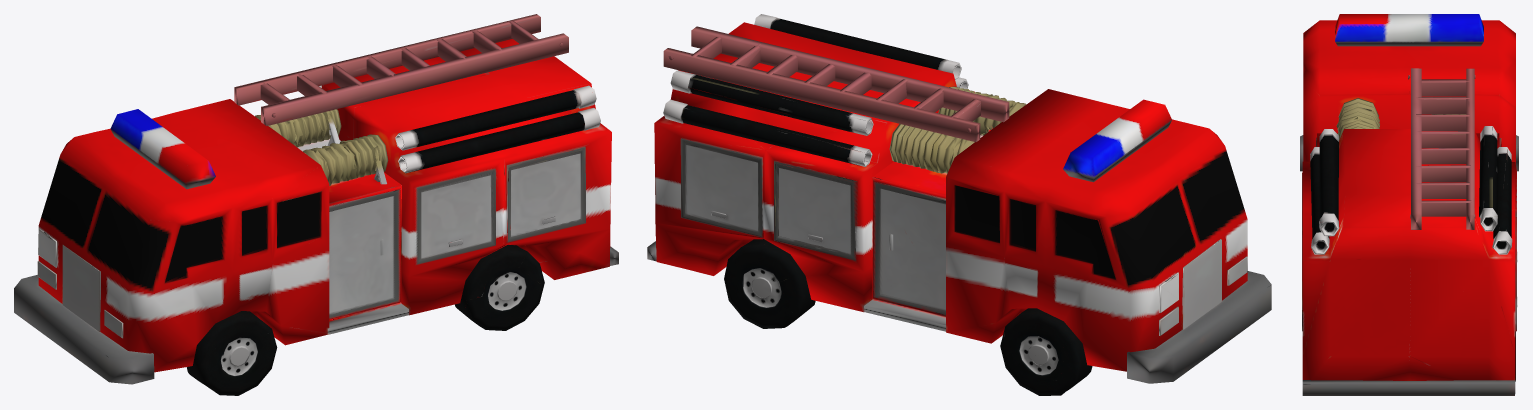
Rendered from bombeiros.glb.
3 renders of one model, left to right at view 1: azimuth 30°, elevation 25°; view 2: azimuth 150°, elevation 25°; view 3: azimuth 270°, elevation 25°, orthographic. The views are drawn at different scales.
Visible parts, largest first — view 1: geometry_0; view 2: geometry_0; view 3: geometry_0.
Boxes of the visible parts, box(x1,y1,x2,y2) form: geometry_0: box(14, 14, 618, 395); geometry_0: box(647, 14, 1271, 395); geometry_0: box(1300, 14, 1518, 395).
Bounding box in the file's own units: 0.9575 × 0.4087 × 0.3613.
Materials: 1 (1 with a texture image).
